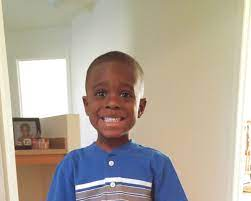person: (81, 51, 147, 141)
